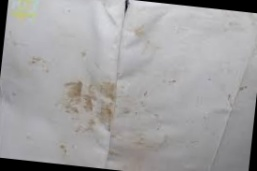earth: (60, 79, 118, 126)
